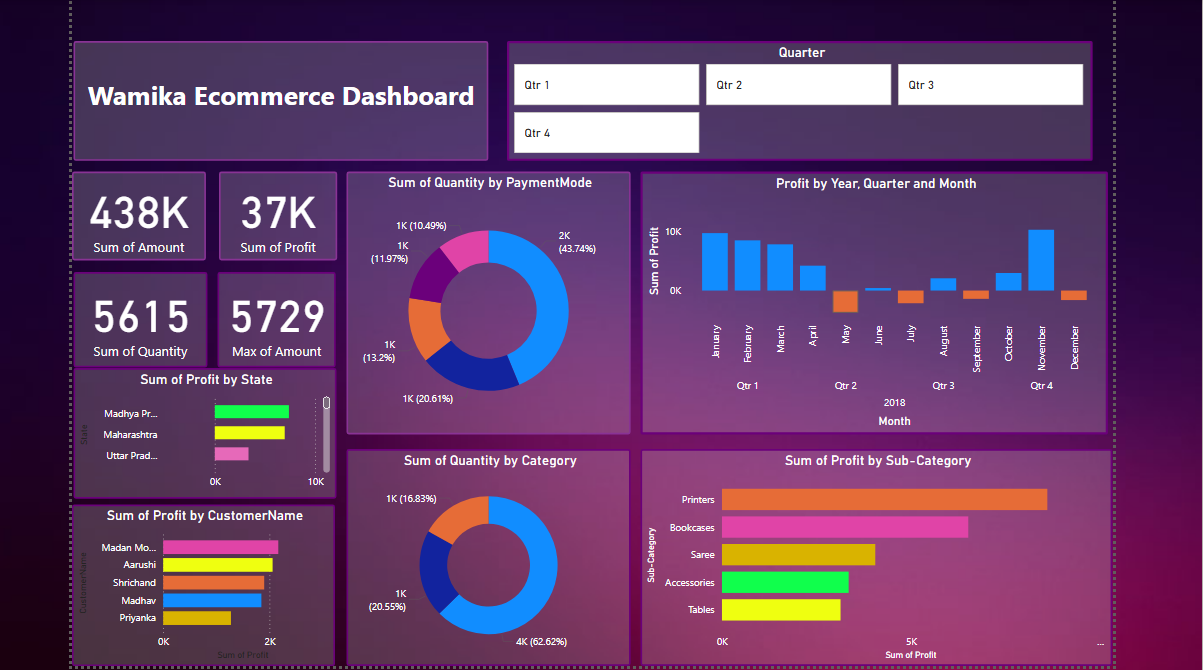

What the dashboard file says about the page in this screenshot:
{"tool":"powerbi","page":{"name":"Page 1","canvas":[1280,820],"ordinal":0},"visuals":[{"type":"columnChart","title":"Profit by Year, Quarter and Month","fields":{"Y":["Details.Profit"],"Category":["Orders.Order Date.Variation.Date Hierarchy.Year","Orders.Order Date.Variation.Date Hierarchy.Quarter","Orders.Order Date.Variation.Date Hierarchy.Month","Orders.Order Date.Variation.Date Hierarchy.Day"]},"box":[699.2,211.7,574.5,323.2],"z":0},{"type":"barChart","fields":{"Category":["Details.Sub-Category"],"Y":["Details.Profit"]},"box":[699.2,553.7,580.2,266.5],"z":1000},{"type":"donutChart","fields":{"Y":["Details.Quantity"],"Category":["Details.PaymentMode"]},"box":[338.3,211.7,349.6,323.2],"z":2000},{"type":"donutChart","fields":{"Y":["Details.Quantity"],"Category":["Details.Category"]},"box":[338.3,553.7,349.6,266.5],"z":3000},{"type":"barChart","fields":{"Y":["Details.Profit"],"Category":["Orders.State"]},"box":[1.9,453.5,323.2,160.6],"z":4000},{"type":"barChart","fields":{"Y":["Details.Profit"],"Category":["Orders.CustomerName"]},"box":[0,621.7,323.2,198.4],"z":5000},{"type":"card","fields":{"Values":["Details.Amount"]},"box":[0,211.7,164.4,109.6],"z":6000},{"type":"card","fields":{"Values":["Details.Profit"]},"box":[181.4,211.7,145.5,109.6],"z":7000},{"type":"card","fields":{"Values":["Details.Amount"]},"box":[179.5,336.4,145.5,117.2],"z":8000},{"type":"card","fields":{"Values":["Details.Quantity"]},"box":[1.9,336.4,164.4,117.2],"z":9000},{"type":"textbox","box":[1.9,51,510.2,147.4],"z":10000},{"type":"advancedSlicerVisual","fields":{"Values":["Orders.Order Date.Variation.Date Hierarchy.Quarter"]},"box":[534.8,51,720,147.4],"z":11000}]}

Visuals, with their boxes on the page's 1280x820 design canvas (x1, y1, x2, y2). These are canvas units, not pixel positions in the 1203x670 screenshot, which may show the page scaled, cropped or inside an application window:
"Profit by Year, Quarter and Month" columnChart: {"x1": 699, "y1": 212, "x2": 1274, "y2": 535}
barChart - Details.Sub-Category x Details.Profit: {"x1": 699, "y1": 554, "x2": 1279, "y2": 820}
donutChart - Details.Quantity x Details.PaymentMode: {"x1": 338, "y1": 212, "x2": 688, "y2": 535}
donutChart - Details.Quantity x Details.Category: {"x1": 338, "y1": 554, "x2": 688, "y2": 820}
barChart - Details.Profit x Orders.State: {"x1": 2, "y1": 454, "x2": 325, "y2": 614}
barChart - Details.Profit x Orders.CustomerName: {"x1": 0, "y1": 622, "x2": 323, "y2": 820}
card - Details.Amount: {"x1": 0, "y1": 212, "x2": 164, "y2": 321}
card - Details.Profit: {"x1": 181, "y1": 212, "x2": 327, "y2": 321}
card - Details.Amount: {"x1": 180, "y1": 336, "x2": 325, "y2": 454}
card - Details.Quantity: {"x1": 2, "y1": 336, "x2": 166, "y2": 454}
textbox: {"x1": 2, "y1": 51, "x2": 512, "y2": 198}
advancedSlicerVisual - Orders.Order Date.Variation.Date Hierarchy.Quarter: {"x1": 535, "y1": 51, "x2": 1255, "y2": 198}
